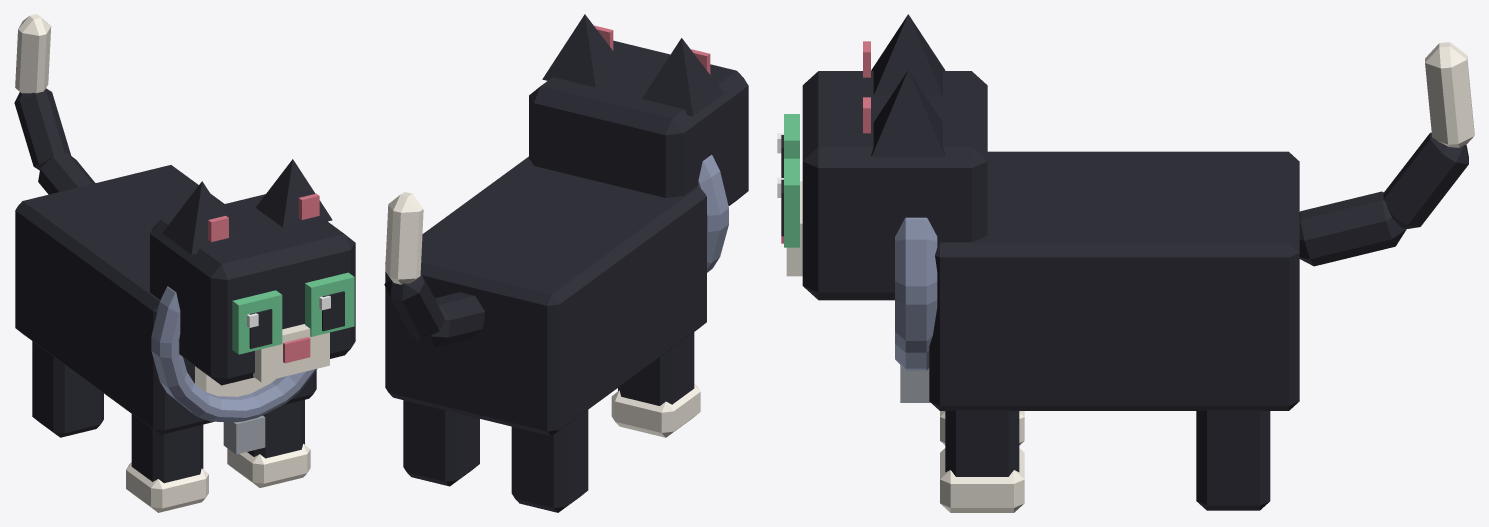
The model's file is CatCafe_Cat_Tuxedo.fbx.
3 renders of one model, left to right at view 1: azimuth 30°, elevation 25°; view 2: azimuth 150°, elevation 25°; view 3: azimuth 270°, elevation 25°, orthographic. The views are drawn at different scales.
Visible parts, largest first — view 1: CatCafe_Cat_Tuxedo_Body, CatCafe_Cat_Tuxedo_Head, CatCafe_Cat_Tuxedo_Tail; view 2: CatCafe_Cat_Tuxedo_Body, CatCafe_Cat_Tuxedo_Head, CatCafe_Cat_Tuxedo_Tail; view 3: CatCafe_Cat_Tuxedo_Body, CatCafe_Cat_Tuxedo_Head, CatCafe_Cat_Tuxedo_Tail.
Boxes of the visible parts, x1,y1,x2,y2 form: CatCafe_Cat_Tuxedo_Body: (15,165,316,512); CatCafe_Cat_Tuxedo_Head: (150,159,355,385); CatCafe_Cat_Tuxedo_Tail: (14,14,95,194); CatCafe_Cat_Tuxedo_Body: (385,155,728,512); CatCafe_Cat_Tuxedo_Head: (529,14,748,205); CatCafe_Cat_Tuxedo_Tail: (384,192,484,347); CatCafe_Cat_Tuxedo_Body: (895,151,1299,512); CatCafe_Cat_Tuxedo_Head: (777,14,987,300); CatCafe_Cat_Tuxedo_Tail: (1299,42,1474,266).
Bounding box in the file's own units: 0.9793 × 1.78 × 2.64.
1 material, 1 textured.
